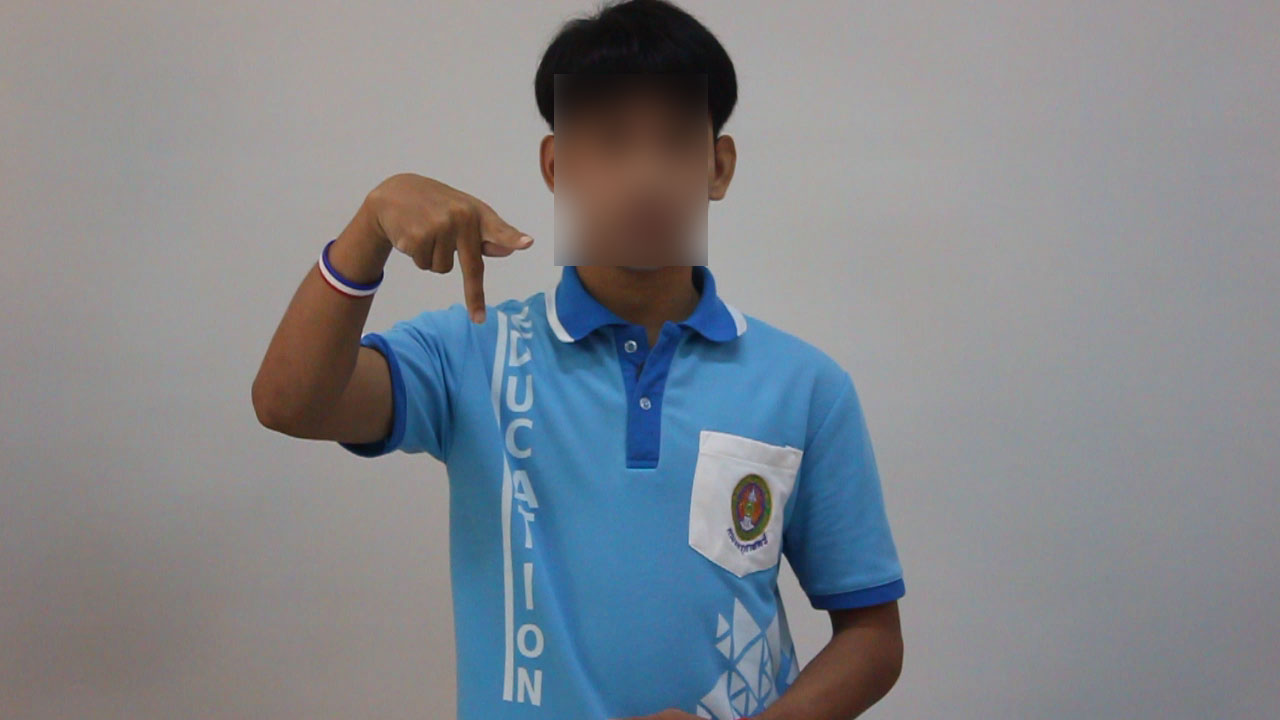por: (350, 138, 543, 332)
